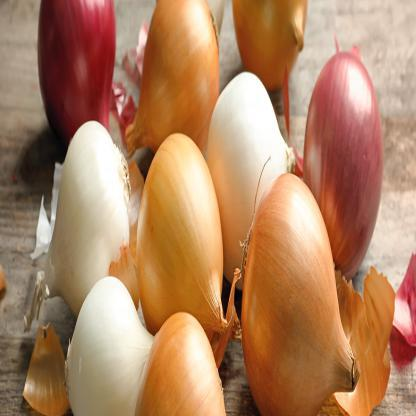onion: (244, 192, 343, 416), (140, 111, 226, 328), (316, 44, 382, 272), (220, 62, 288, 262), (46, 129, 134, 278), (60, 276, 153, 416), (144, 292, 238, 415)
